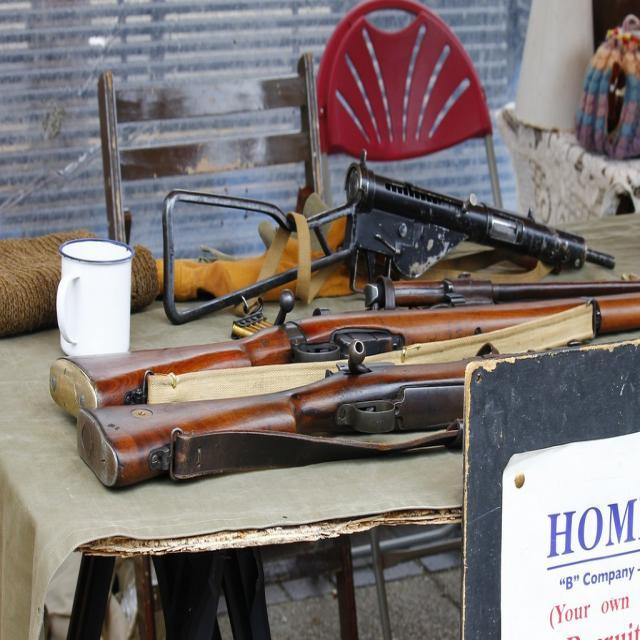weapon: (48, 274, 640, 426), (161, 144, 617, 327)
